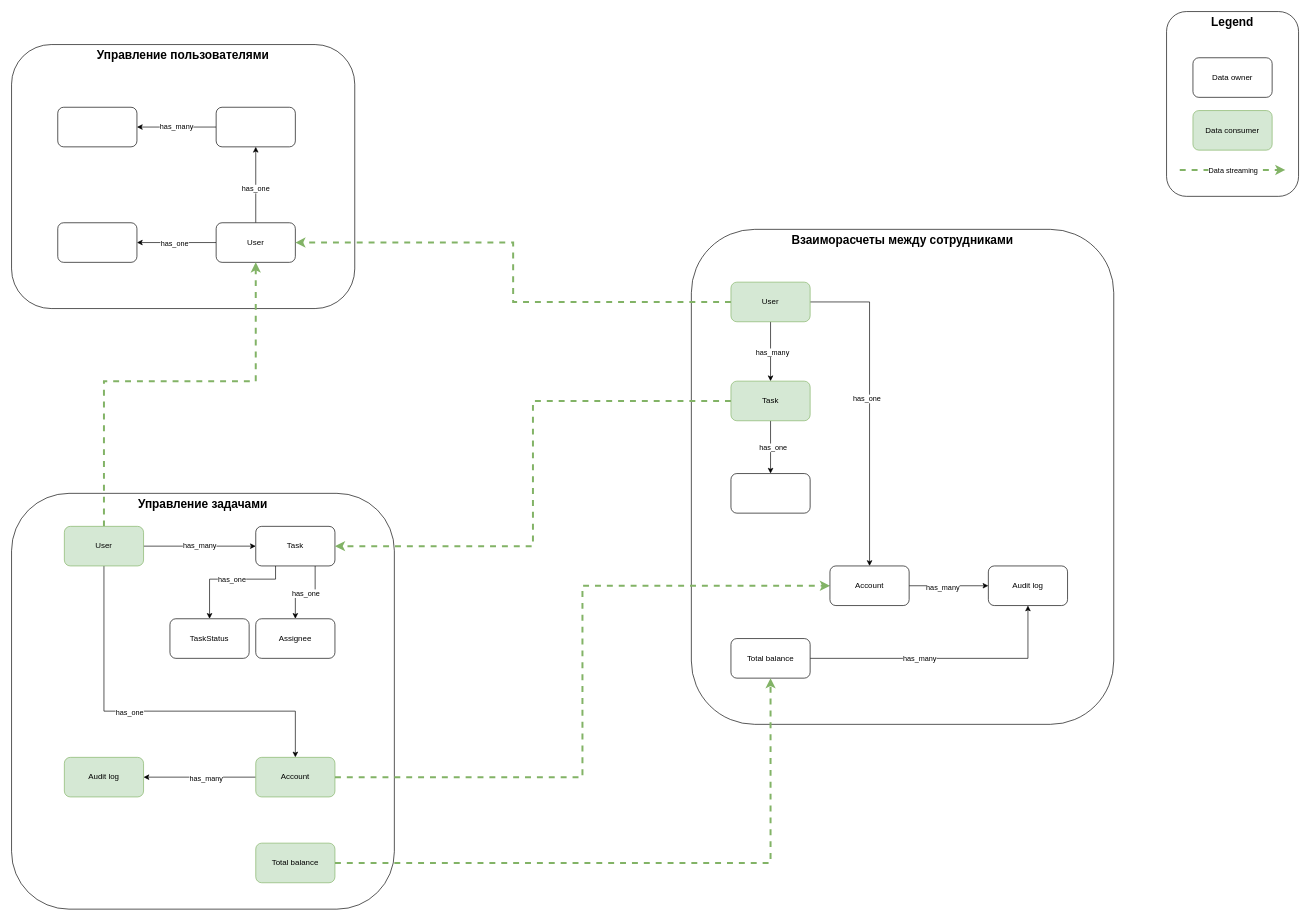
This 1310x921 diagram has some shape labels left out. Here are the shapes that lost their labels. From the top down, the centre of each, then its label:
At (x=97, y=127): "Permission".
At (x=255, y=127): "Role".
At (x=97, y=242): "Email".
At (x=770, y=493): "TaskCost".
